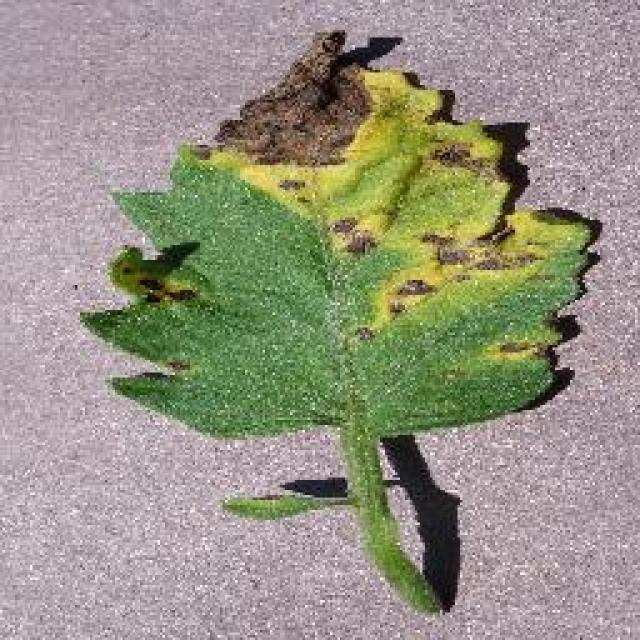Tomato___Septoria_leaf_spot: (80, 32, 592, 610)
